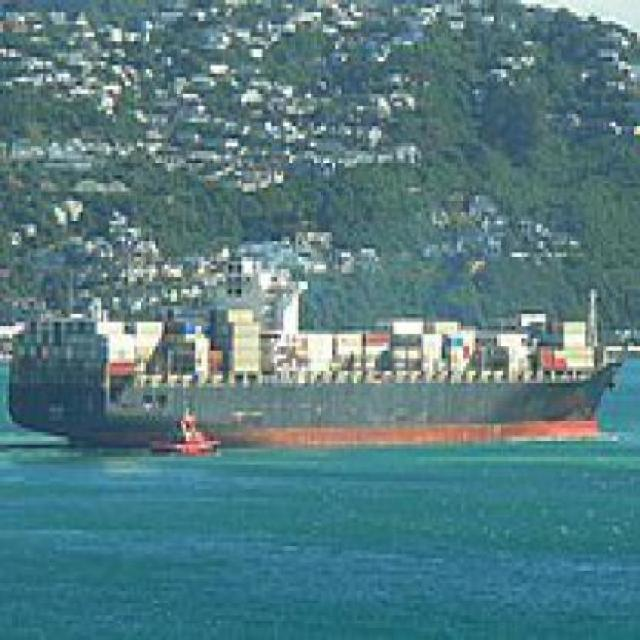container: (1, 241, 632, 466)
